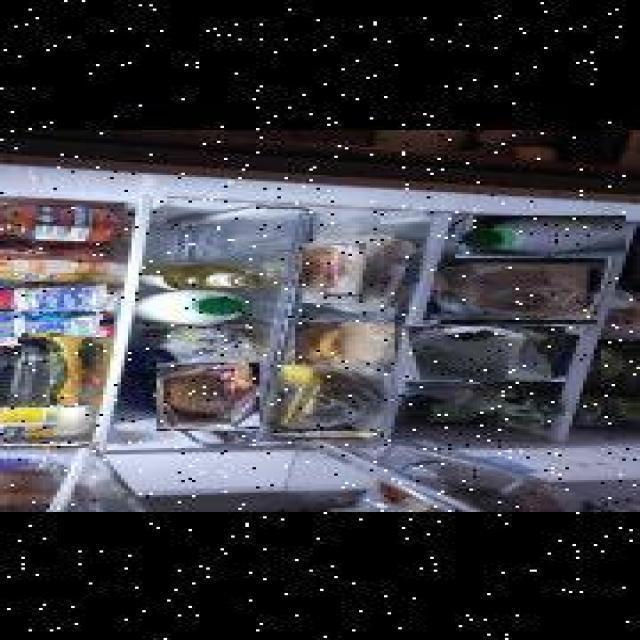bread: (430, 262, 598, 322)
broccoli: (406, 324, 566, 380)
cheese: (302, 244, 366, 304)
humus: (156, 362, 260, 428), (295, 322, 395, 369)
mayonaise: (0, 407, 100, 444)
milk: (455, 217, 626, 260), (135, 290, 249, 327)
pineapple: (272, 366, 386, 434)
salad: (601, 342, 640, 392)
tortillas: (49, 330, 92, 408)
yogurt: (1, 312, 116, 337), (14, 284, 107, 310), (0, 318, 32, 346), (0, 290, 36, 312)
